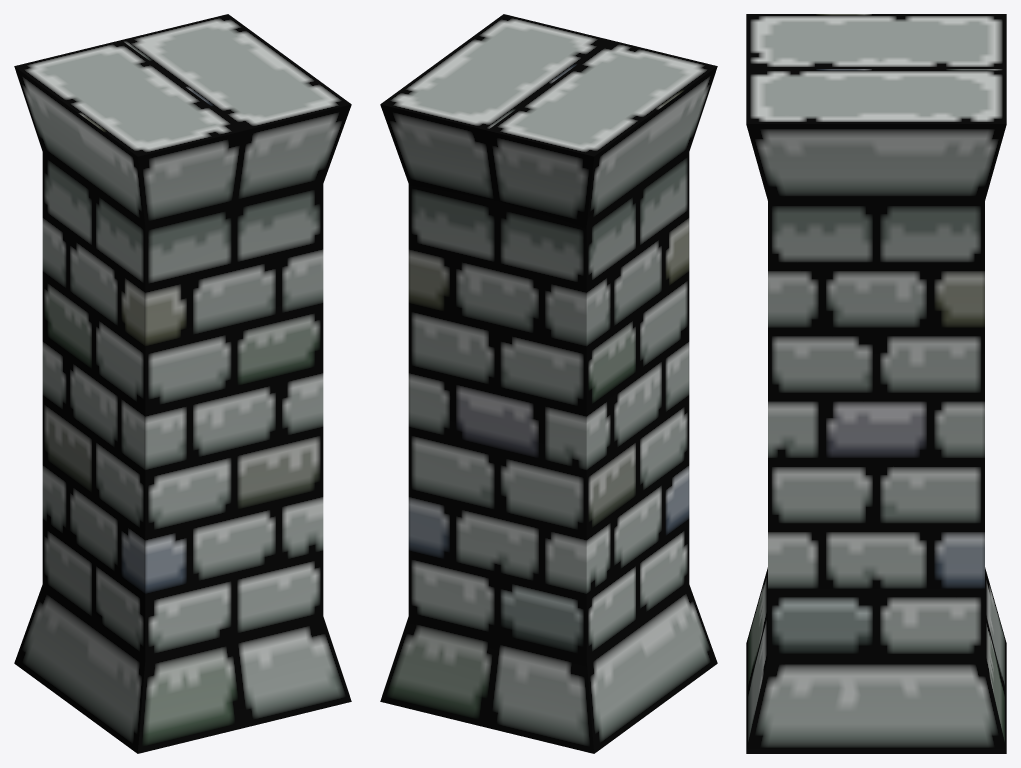
The model's file is deco_cathedral_pillarA.FBX.
The picture shows the model from 3 angles, left to right: view 1: azimuth 30°, elevation 25°; view 2: azimuth 150°, elevation 25°; view 3: azimuth 270°, elevation 25°; orthographic projection. The views are drawn at different scales.
Parts seen in each view (by area): view 1: deco_cathedral_pillarA; view 2: deco_cathedral_pillarA; view 3: deco_cathedral_pillarA.
Part boxes in pixels (x1=…): deco_cathedral_pillarA: x1=14, y1=14, x2=351, y2=753; deco_cathedral_pillarA: x1=380, y1=14, x2=717, y2=753; deco_cathedral_pillarA: x1=746, y1=14, x2=1006, y2=753.
Size of the model in its own units: 1.5 by 4 by 1.5.
1 material, 1 textured.
